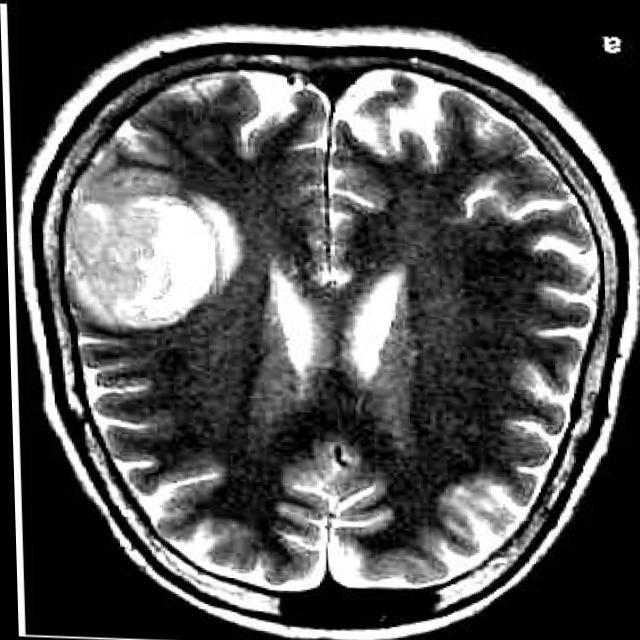Tumor: (58, 169, 239, 326)
